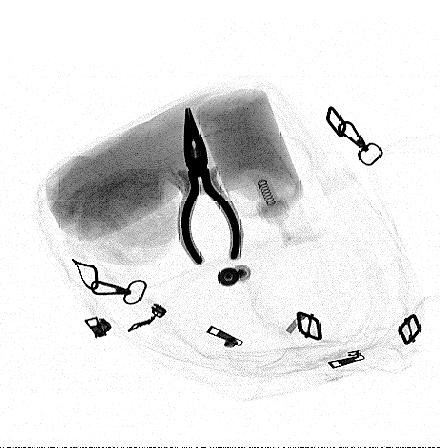Pliers: (180, 106, 242, 267)
